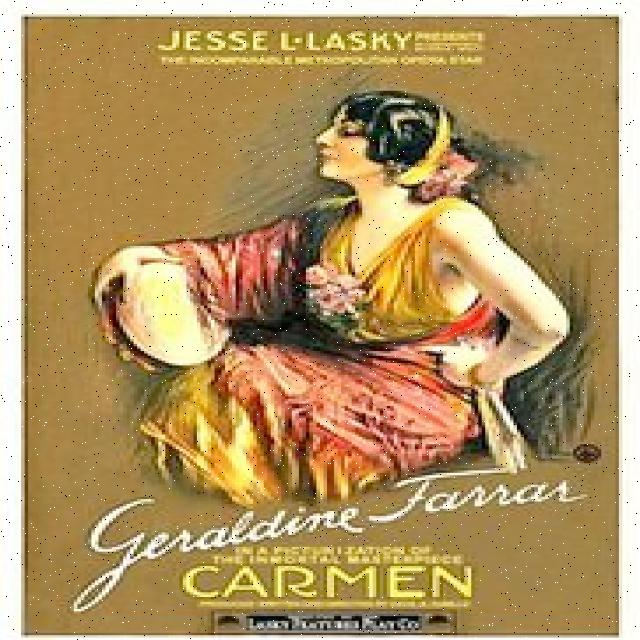movie-judul: (176, 564, 484, 602)
picture: (97, 91, 586, 495)
